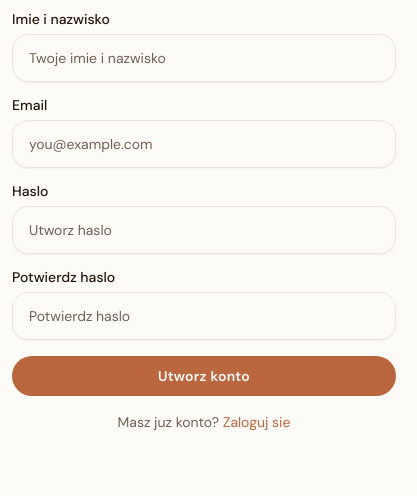
Test case: SignUpForm › validates password confirmation match
The width and height of the screenshot is (417, 496).
Type "Jan Kowalski" into the field labelled "Imie i nazwisko" at coordinates (204, 58), box [12, 34, 396, 82]
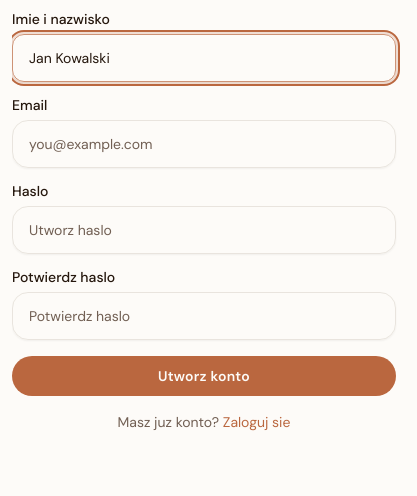
Type "jan@example.com" into the field labelled "Email" at coordinates (204, 144), box [12, 120, 396, 168]
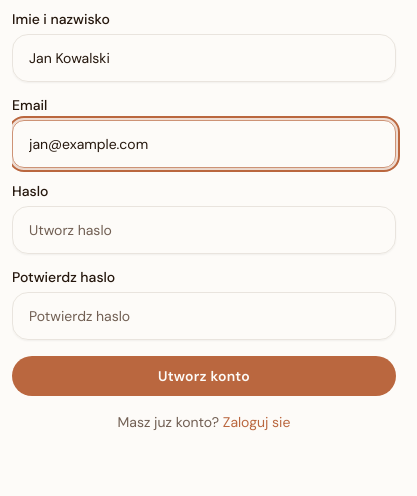
Type "password123" into the password field labelled "Haslo" at coordinates (204, 230), box [12, 206, 396, 254]
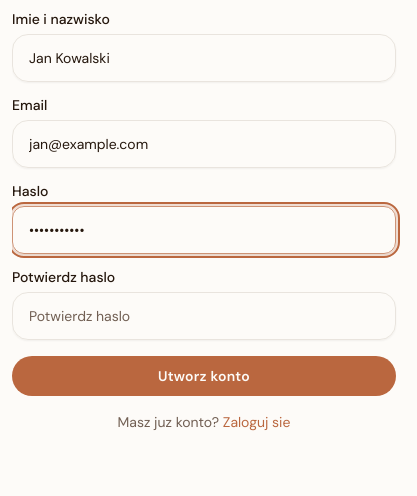
Type "different123" into the password field labelled "Potwierdz haslo" at coordinates (204, 316), box [12, 292, 396, 340]
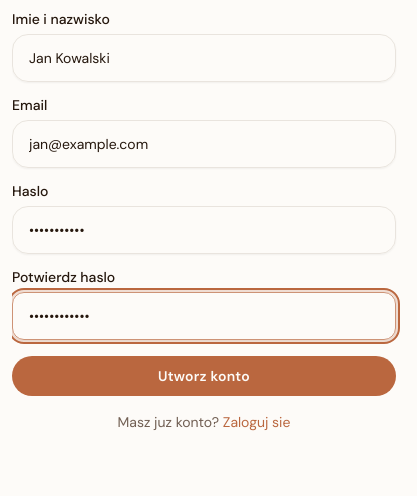
Click the button "Utworz konto" at coordinates (204, 376), box [12, 356, 396, 396]
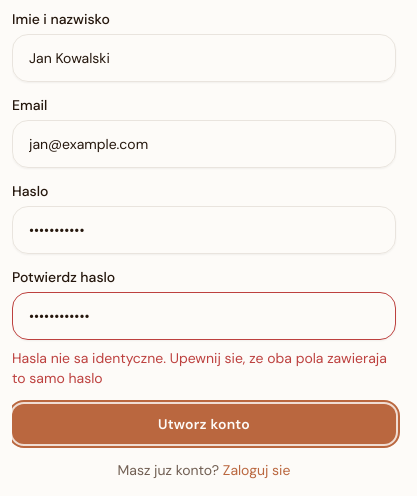
Expected: the text "Hasla nie sa identyczne. Upewnij sie, ze oba pola zawieraja to samo haslo" is shown, [12, 348, 396, 388]
